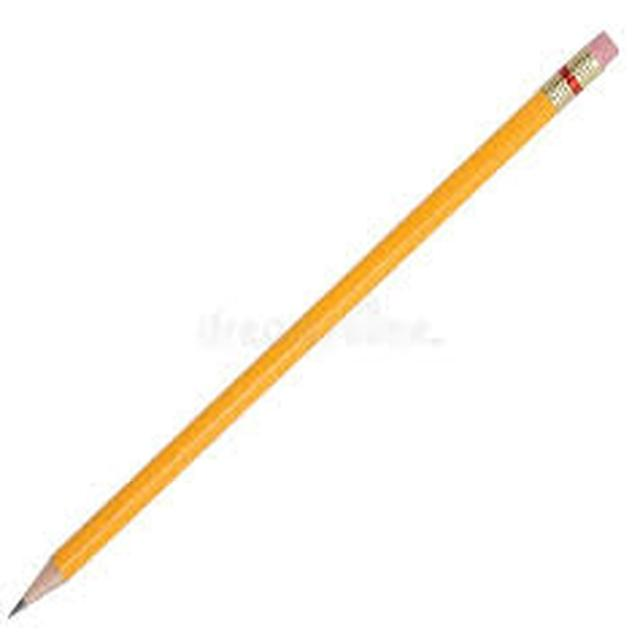pen: (0, 12, 634, 628)
